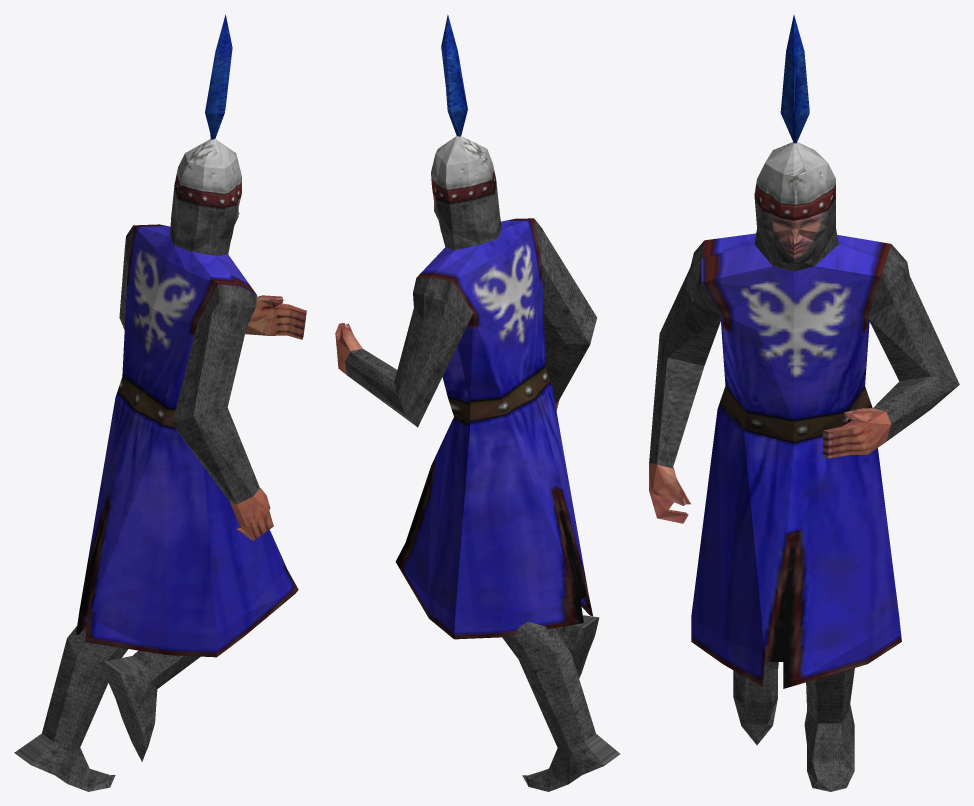
File: guard_run15.obj
The picture shows the model from 3 angles, left to right: view 1: azimuth 30°, elevation 25°; view 2: azimuth 150°, elevation 25°; view 3: azimuth 270°, elevation 25°; orthographic projection. The views are drawn at different scales.
Visible parts, largest first — view 1: Object_1; view 2: Object_1; view 3: Object_1.
Part boxes in pixels (<box>): Object_1: <box>14,14,306,791</box>; Object_1: <box>335,14,620,791</box>; Object_1: <box>649,15,959,791</box>.
Size of the model in its own units: 0.8816 by 2.24 by 0.7587.
Materials: 1 (1 with a texture image).
